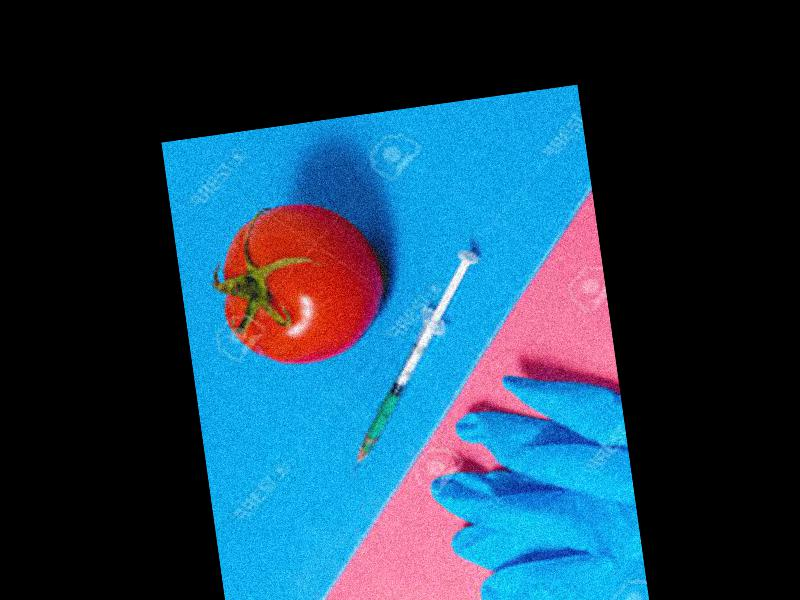Tomato: (213, 195, 394, 373)
